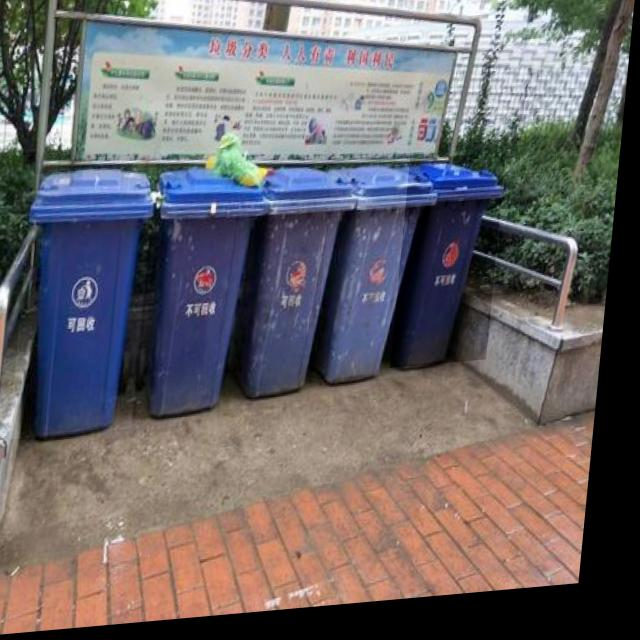garbage_bin: (17, 167, 160, 440), (320, 164, 443, 392), (251, 167, 362, 403), (398, 161, 510, 376)
overflow: (144, 132, 277, 421)
